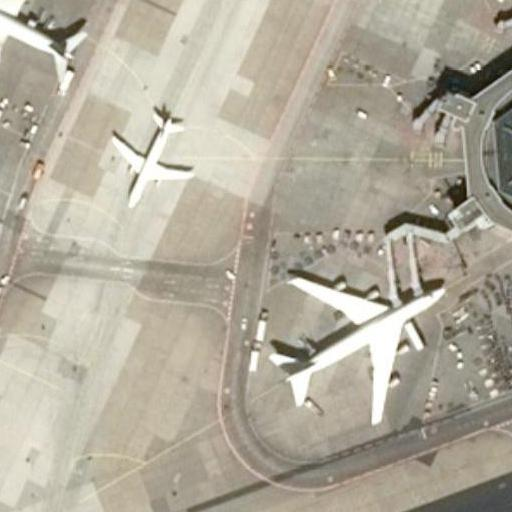Aircraft: (255, 254, 456, 431), (100, 91, 200, 213), (0, 0, 105, 110)
